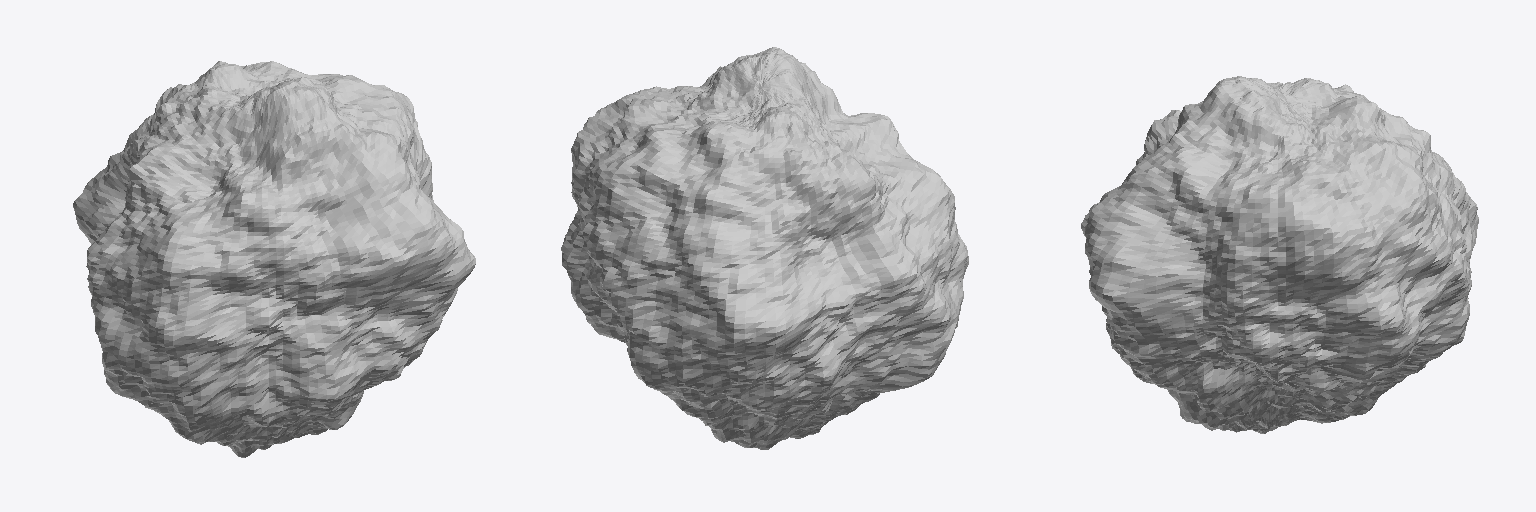
File: boulder2.obj
3 views of the same model, side by side, from view 1: azimuth 30°, elevation 25°; view 2: azimuth 150°, elevation 25°; view 3: azimuth 270°, elevation 25° (orthographic).
Parts seen in each view (by area): view 1: Landscape; view 2: Landscape; view 3: Landscape.
Part boxes in pixels (bbox=[...]): Landscape: bbox=[73, 61, 475, 457]; Landscape: bbox=[561, 47, 968, 449]; Landscape: bbox=[1081, 76, 1478, 433].
Size of the model in its own units: 2.22 by 2.31 by 2.26.